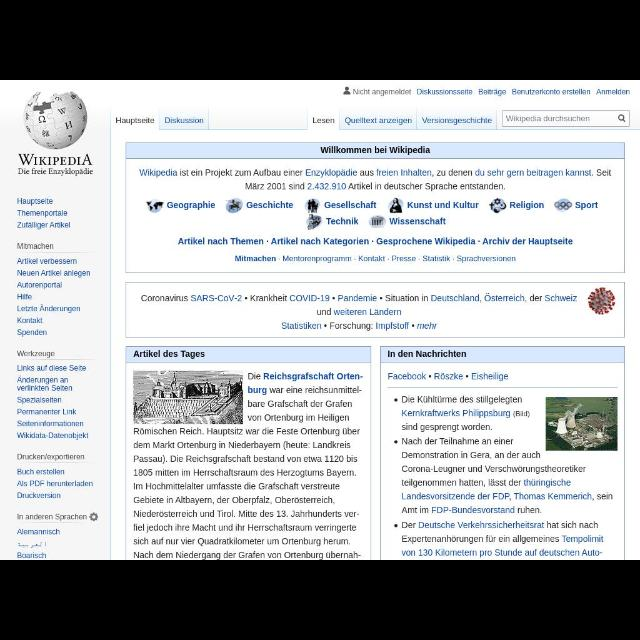icon: (618, 114, 626, 122), (343, 87, 351, 95), (394, 398, 398, 402), (394, 440, 398, 444), (394, 524, 398, 528)
image: (18, 90, 94, 176), (133, 371, 243, 425), (546, 397, 618, 451), (586, 287, 616, 315), (225, 197, 243, 213), (305, 214, 323, 230), (489, 198, 506, 214), (305, 198, 321, 214), (388, 198, 404, 214), (146, 199, 164, 213), (554, 198, 572, 212), (369, 215, 387, 228)
input: (502, 111, 630, 127)
multitab: (352, 89, 630, 98)
panel: (126, 143, 624, 273), (380, 346, 624, 560), (126, 348, 372, 558)
text: (133, 428, 361, 558), (401, 465, 613, 557), (140, 168, 612, 190), (402, 396, 542, 460), (248, 372, 364, 422), (140, 294, 578, 304), (178, 238, 574, 246), (234, 256, 516, 264), (282, 322, 438, 332), (389, 372, 509, 382), (320, 146, 430, 156), (17, 376, 73, 392), (504, 115, 590, 124), (134, 350, 206, 360), (316, 308, 402, 316), (389, 350, 467, 358), (18, 304, 80, 314), (17, 480, 93, 488), (17, 270, 91, 278), (17, 433, 89, 441), (17, 514, 88, 522), (421, 117, 492, 125), (512, 88, 590, 95), (18, 364, 86, 372), (16, 420, 84, 428), (344, 117, 412, 125), (17, 454, 84, 462), (353, 89, 412, 98), (388, 218, 446, 226), (407, 202, 479, 208), (18, 222, 70, 230), (17, 210, 68, 218), (16, 350, 56, 360), (417, 88, 473, 95), (167, 202, 215, 210), (246, 201, 294, 209), (17, 468, 65, 476), (17, 259, 77, 265), (17, 409, 77, 415), (18, 282, 62, 290), (18, 397, 62, 405), (116, 116, 154, 125), (18, 492, 60, 500), (18, 528, 60, 536), (324, 202, 378, 208), (17, 198, 53, 206), (510, 202, 544, 210), (326, 218, 359, 226), (478, 89, 506, 98), (17, 329, 47, 337), (164, 118, 203, 124), (18, 243, 54, 249), (596, 89, 630, 95), (17, 542, 47, 548), (576, 202, 598, 210), (312, 116, 334, 124), (18, 553, 46, 559), (17, 318, 43, 324), (18, 294, 32, 300)
toolbar: (110, 110, 636, 128)
